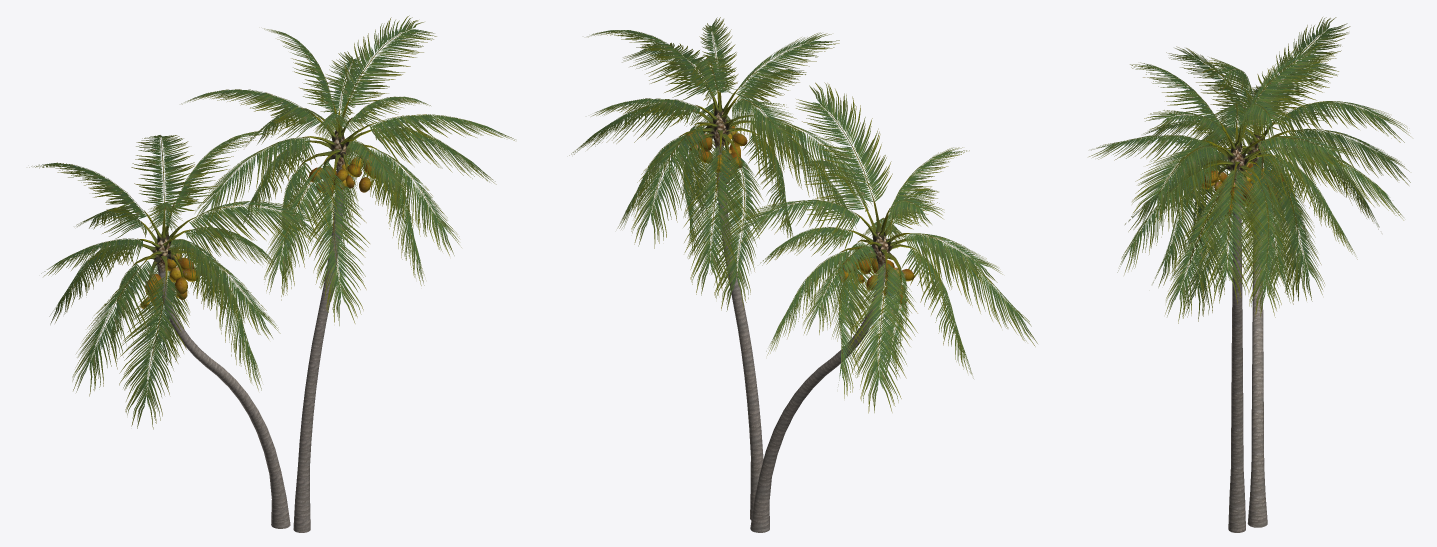
The model's file is dua.glb.
3 views of the same model, side by side, from view 1: azimuth 30°, elevation 25°; view 2: azimuth 150°, elevation 25°; view 3: azimuth 270°, elevation 25° (orthographic). The views are drawn at different scales.
Visible parts, largest first — view 1: Tree_2, Tree_0, Tree_3, Tree_4; view 2: Tree_2, Tree_0, Tree_3, Tree_4, Tree_1; view 3: Tree_2, Tree_0, Tree_3, Tree_4.
Part boxes in pixels (box(x1,y1,x2,y2)): Tree_2: box(29, 15, 515, 429); Tree_0: box(158, 170, 343, 532); Tree_3: box(132, 97, 378, 295); Tree_4: box(140, 153, 375, 308); Tree_2: box(569, 17, 1037, 413); Tree_0: box(715, 151, 885, 532); Tree_3: box(679, 80, 918, 291); Tree_4: box(685, 126, 914, 305); Tree_1: box(712, 112, 888, 270); Tree_2: box(1089, 17, 1410, 323); Tree_0: box(1228, 201, 1267, 532); Tree_3: box(1204, 112, 1296, 202); Tree_4: box(1202, 162, 1283, 217).
Bounding box in the file's own units: 1 × 0.998 × 0.639.
5 materials, 5 textured.
